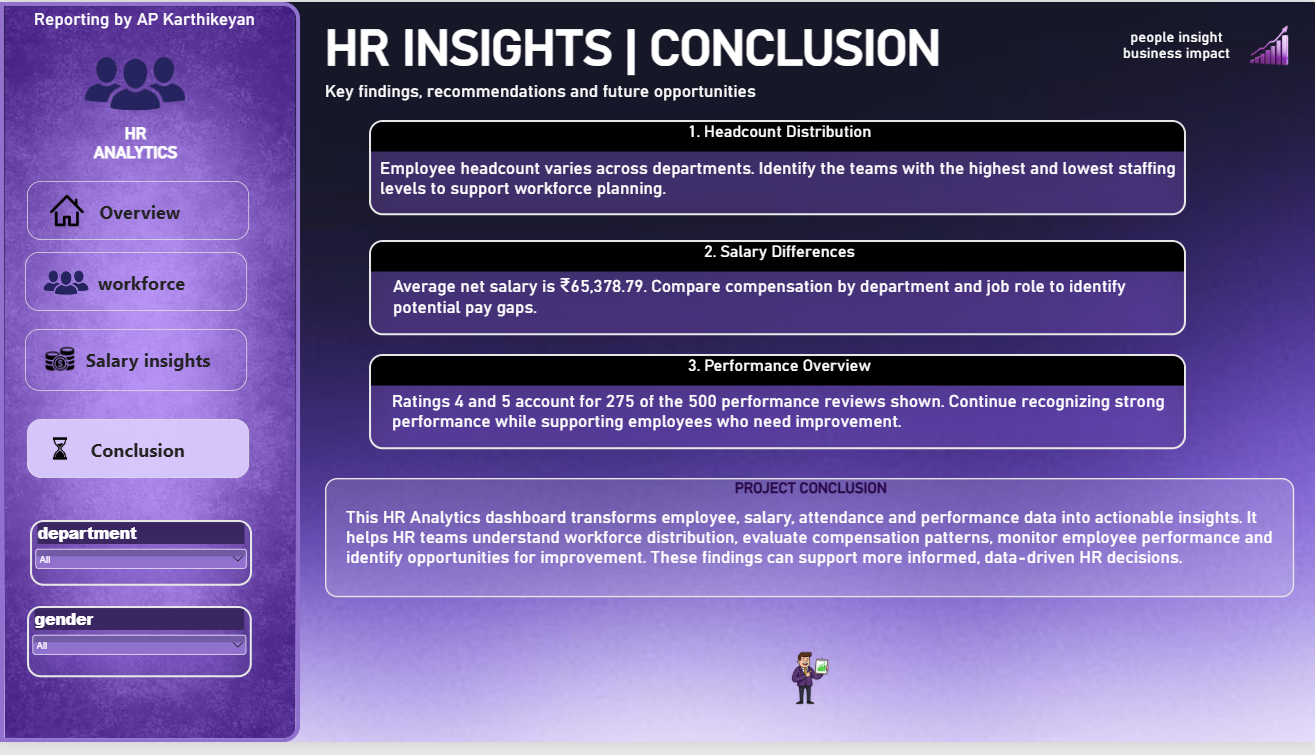

Layout of this report page (visuals, bound fields, positions):
{"tool":"powerbi","page":{"name":"page 4","canvas":[1920,1080],"ordinal":3},"visuals":[{"type":"image","box":[0,0,437.7,1079.6],"z":0},{"type":"textbox","title":"HR ANALYTICS","box":[124,178,147.4,64.2],"z":1000},{"type":"textbox","title":"HR INSIGHTS | CONCLUSION","box":[474.2,24.8,1361.2,87.5],"z":2000},{"type":"image","box":[108,27.7,180.9,175.1],"z":3000},{"type":"textbox","box":[39.4,261.2,323.9,86.1],"z":4000},{"type":"image","box":[67.1,261.2,61.3,86.1],"z":5000},{"type":"textbox","box":[36.5,364.7,323.9,86.1],"z":6000},{"type":"textbox","box":[39.4,608.4,323.9,86.1],"z":7000},{"type":"textbox","box":[36.5,477.1,323.9,90.5],"z":8000},{"type":"image","box":[56.9,366.2,80.2,83.2],"z":9000},{"type":"image","box":[56.9,478.5,61.3,86.1],"z":10000},{"type":"image","box":[56.9,608.4,61.3,86.1],"z":11000},{"type":"slicer","fields":{"Values":["hr_analytics employees.gender"]},"box":[39.4,881.2,328.3,103.6],"z":12000},{"type":"slicer","fields":{"Values":["hr_analytics departments.department_name"]},"box":[43.8,755.7,323.9,96.3],"z":13000},{"type":"textbox","title":"Key findings, recommendations and future opportunities","box":[474.2,115.3,795.1,33.6],"z":14000},{"type":"image","box":[1816.4,24.8,71.5,81.7],"z":15000},{"type":"textbox","title":"people insight business impact","box":[1629.7,37.9,173.6,54],"z":16000},{"type":"image","box":[1114.7,933.7,134.2,105],"z":17000},{"type":"textbox","title":"Reporting  by AP Karthikeyan","box":[49.6,10.2,335.6,37.9],"z":19000},{"type":"textbox","title":"1. Headcount Distribution","box":[538.4,172.2,1192,138.6],"z":20000},{"type":"textbox","title":"Employee headcount varies across departments. Identify the teams with the highest and lowest staffing levels to support workforce planning.","box":[554.4,227.6,1231.4,65.7],"z":21000},{"type":"textbox","title":"2. Salary Differences","box":[538.4,347.2,1192,138.6],"z":22000},{"type":"textbox","title":"3. Performance Overview","box":[538.4,513.6,1192,138.6],"z":23000},{"type":"textbox","title":"Ratings 4 and 5 account for 275 of the 500 performance reviews shown. Continue recognizing strong performance while supporting employees who need improvement.","box":[571.9,567.5,1231.4,65.7],"z":24000},{"type":"textbox","title":"Average net salary is ₹65,378.79. Compare compensation by department and job role to identify potential pay gaps.","box":[573.4,398.3,1164.3,65.7],"z":25000},{"type":"textbox","title":"PROJECT CONCLUSION","box":[474.2,694.5,1413.7,173.6],"z":26000},{"type":"textbox","title":"This HR Analytics dashboard transforms employee, salary, attendance and performance data into actionable insights. It helps HR teams understand workforce distribution, evaluate compensation patterns, ","box":[504.8,736.8,1358.3,94.8],"z":27000}]}

Visuals, with their boxes in screenshot pixels (x1, y1, x2, y2), scaled from the page's 1920x1080 canvas onto the 1315x755 screenshot:
image: 0, 0, 300, 754
"HR ANALYTICS" textbox: 85, 124, 186, 169
"HR INSIGHTS | CONCLUSION" textbox: 325, 17, 1257, 79
image: 74, 19, 198, 142
textbox: 27, 183, 249, 243
image: 46, 183, 88, 243
textbox: 25, 255, 247, 315
textbox: 27, 425, 249, 486
textbox: 25, 334, 247, 397
image: 39, 256, 94, 314
image: 39, 335, 81, 395
image: 39, 425, 81, 486
slicer - hr_analytics employees.gender: 27, 616, 252, 688
slicer - hr_analytics departments.department_name: 30, 528, 252, 596
"Key findings, recommendations and future opportunities" textbox: 325, 81, 869, 104
image: 1244, 17, 1293, 74
"people insight business impact" textbox: 1116, 26, 1235, 64
image: 763, 653, 855, 726
"Reporting  by AP Karthikeyan" textbox: 34, 7, 264, 34
"1. Headcount Distribution" textbox: 369, 120, 1185, 217
"Employee headcount varies across departments. Identify the teams with the highest and lowest staffing levels to support workforce planning." textbox: 380, 159, 1223, 205
"2. Salary Differences" textbox: 369, 243, 1185, 340
"3. Performance Overview" textbox: 369, 359, 1185, 456
"Ratings 4 and 5 account for 275 of the 500 performance reviews shown. Continue recognizing strong performance while supporting employees who need improvement." textbox: 392, 397, 1235, 443
"Average net salary is ₹65,378.79. Compare compensation by department and job role to identify potential pay gaps." textbox: 393, 278, 1190, 324
"PROJECT CONCLUSION" textbox: 325, 486, 1293, 607
"This HR Analytics dashboard transforms employee, salary, attendance and performance data into actionable insights. It helps HR teams understand workforce distribution, evaluate compensation patterns, " textbox: 346, 515, 1276, 581
